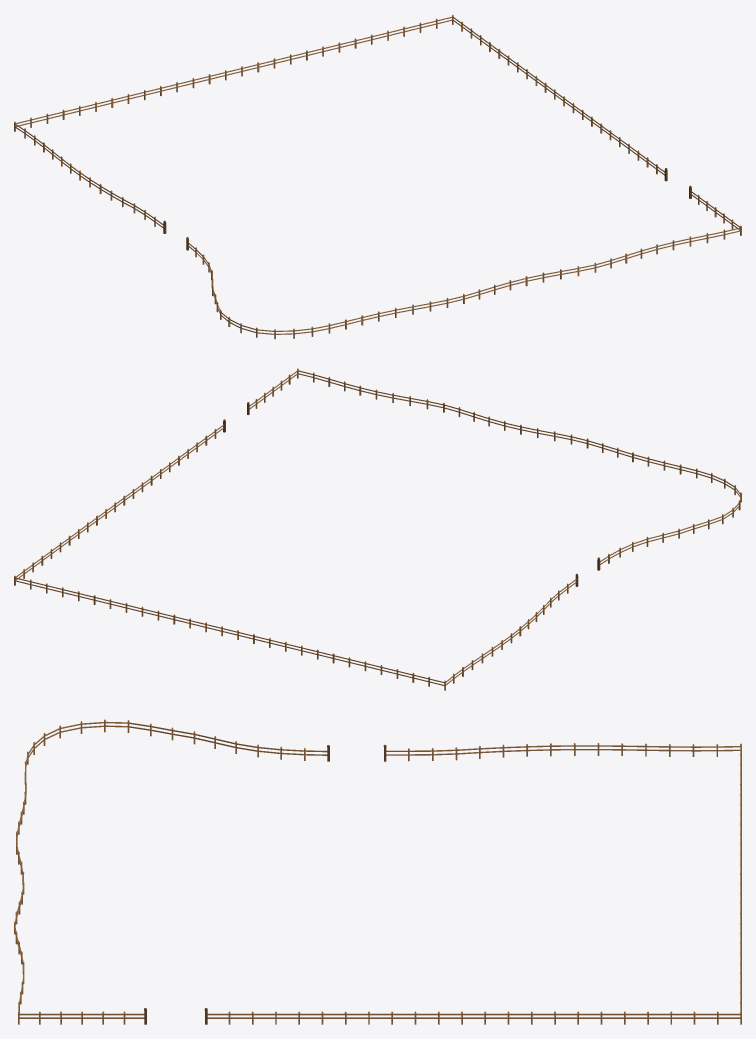
File: fences.glb
3 views of the same model, one above another, from view 1: azimuth 30°, elevation 25°; view 2: azimuth 150°, elevation 25°; view 3: azimuth 270°, elevation 25° (orthographic). The views are drawn at different scales.
Parts seen in each view (by area): view 1: Fences; view 2: Fences; view 3: Fences.
Part boxes in pixels (x1,y1,x2,y2): Fences: (14,15,741,339); Fences: (14,368,741,690); Fences: (14,719,741,1024).
Bounding box in the file's own units: 68.6 × 1.76 × 72.
